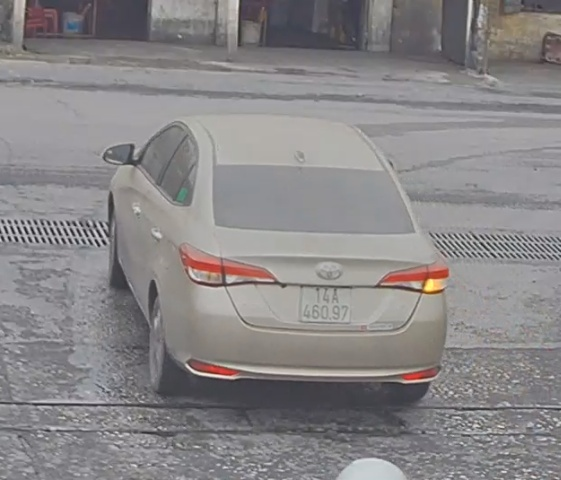vehicle plate: (300, 282, 354, 328)
